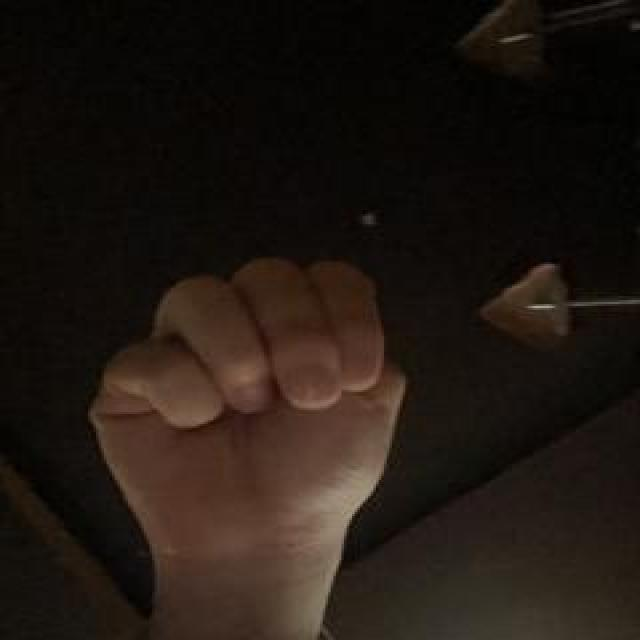M: (70, 252, 422, 580)
